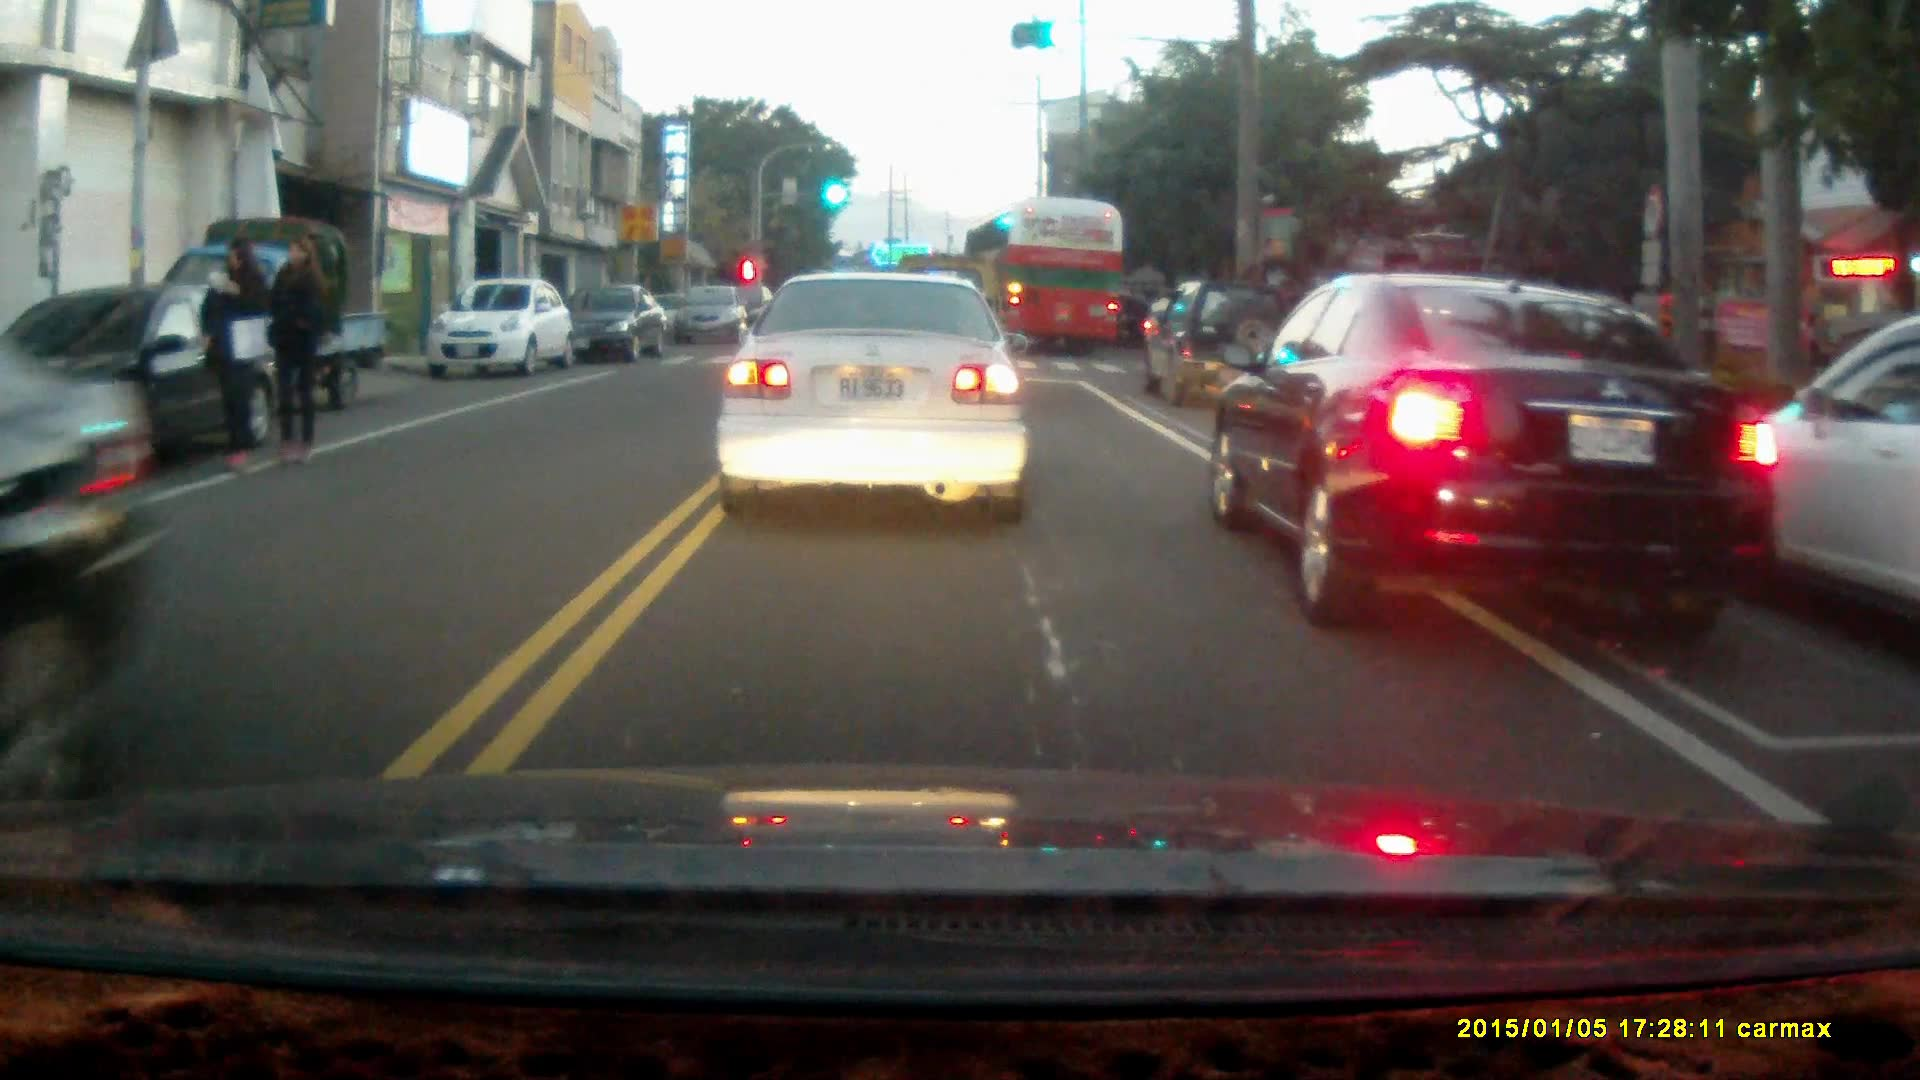pedestrian: (198, 235, 270, 470), (265, 234, 324, 455)
vehicle: (1209, 274, 1786, 622), (1, 280, 214, 805), (713, 265, 1030, 524), (1689, 317, 1920, 609), (152, 213, 397, 413), (963, 200, 1123, 358), (1149, 279, 1285, 407), (428, 279, 578, 380), (561, 278, 672, 366), (674, 286, 754, 345)
